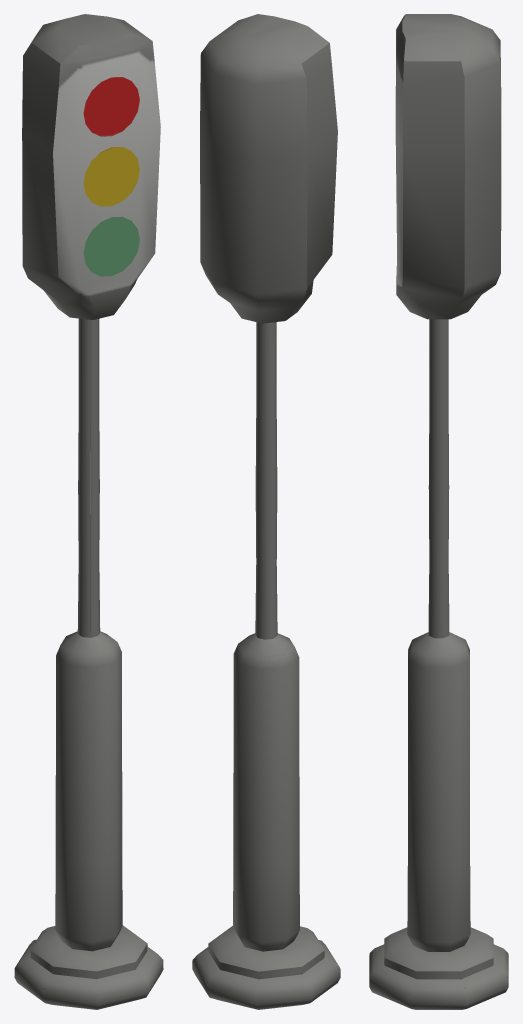
The model's file is Traffic-Signal.obj.
The picture shows the model from 3 angles, left to right: view 1: azimuth 30°, elevation 25°; view 2: azimuth 150°, elevation 25°; view 3: azimuth 270°, elevation 25°; orthographic projection.
Visible parts, largest first — view 1: Traffic-Signal_Cylinder.003; view 2: Traffic-Signal_Cylinder.003; view 3: Traffic-Signal_Cylinder.003.
Part boxes in pixels (x1,y1,x2,y2): Traffic-Signal_Cylinder.003: [14, 14, 163, 1009]; Traffic-Signal_Cylinder.003: [192, 14, 340, 1009]; Traffic-Signal_Cylinder.003: [369, 14, 508, 1009].
Bounding box in the file's own units: 0.1705 × 1.3 × 0.1705.
5 materials, 5 textured.
